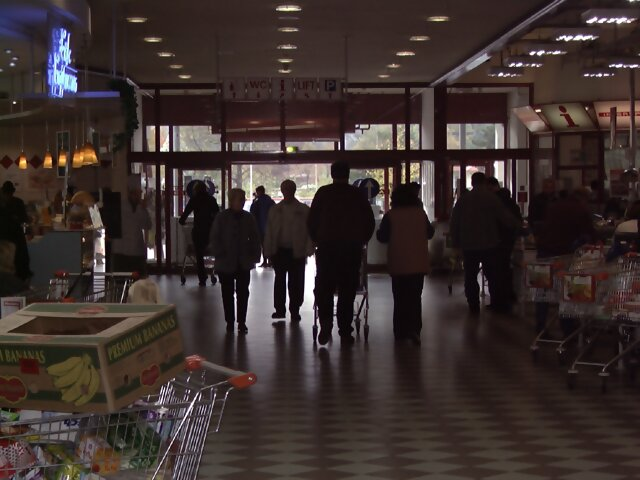person: (306, 157, 374, 352), (378, 184, 438, 353), (209, 186, 264, 336), (264, 178, 317, 328)
